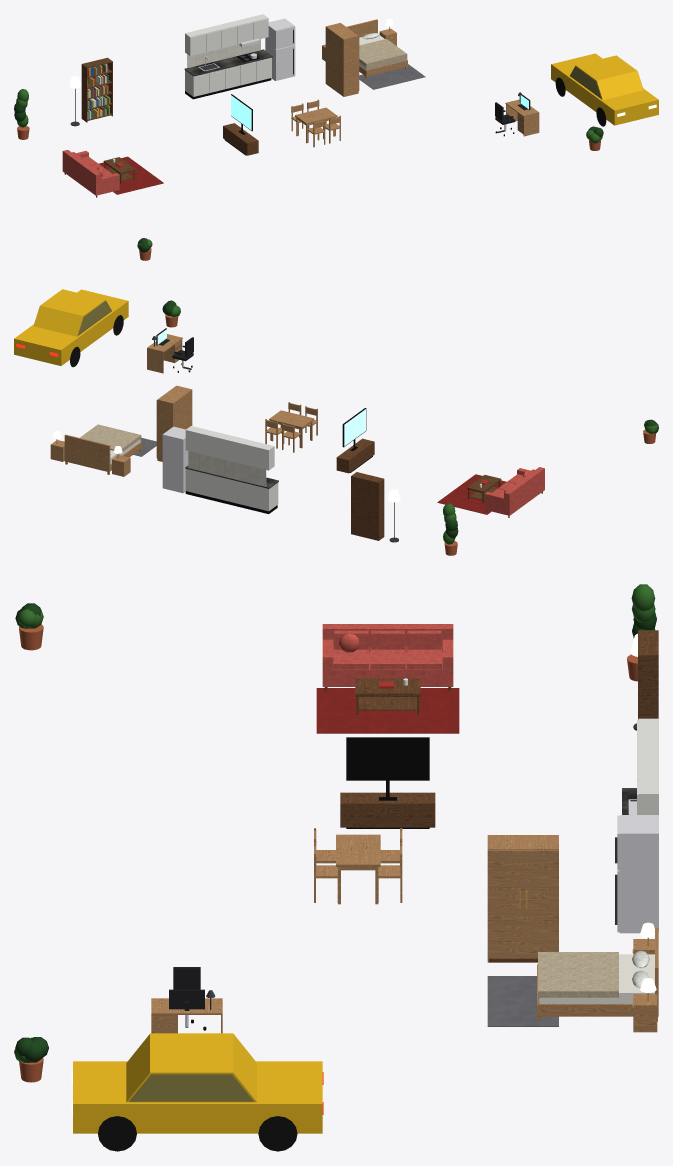
File: i_midcentury_house.gltf
3 views of the same model, one above another, from view 1: azimuth 30°, elevation 25°; view 2: azimuth 150°, elevation 25°; view 3: azimuth 270°, elevation 25° (orthographic). The views are drawn at different scales.
Visible parts, largest first — view 1: I_midcentury_house; view 2: I_midcentury_house; view 3: I_midcentury_house.
Part boxes in pixels (bbox=[...]): I_midcentury_house: bbox=[14, 14, 658, 260]; I_midcentury_house: bbox=[14, 289, 658, 555]; I_midcentury_house: bbox=[14, 584, 658, 1151].
Bounding box in the file's own units: 20.38 × 2.2 × 10.85.
33 materials, 10 textured.
